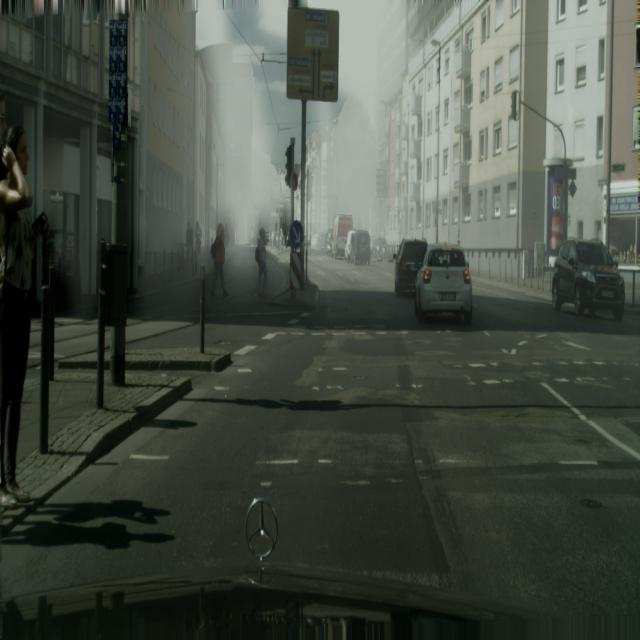bus: (0, 125, 49, 502), (210, 222, 229, 298), (255, 228, 268, 296), (195, 219, 202, 258), (186, 221, 194, 254)
car: (332, 213, 353, 258)
person: (550, 237, 626, 320), (414, 244, 472, 325), (395, 239, 428, 297), (345, 229, 371, 265), (372, 237, 389, 261)
